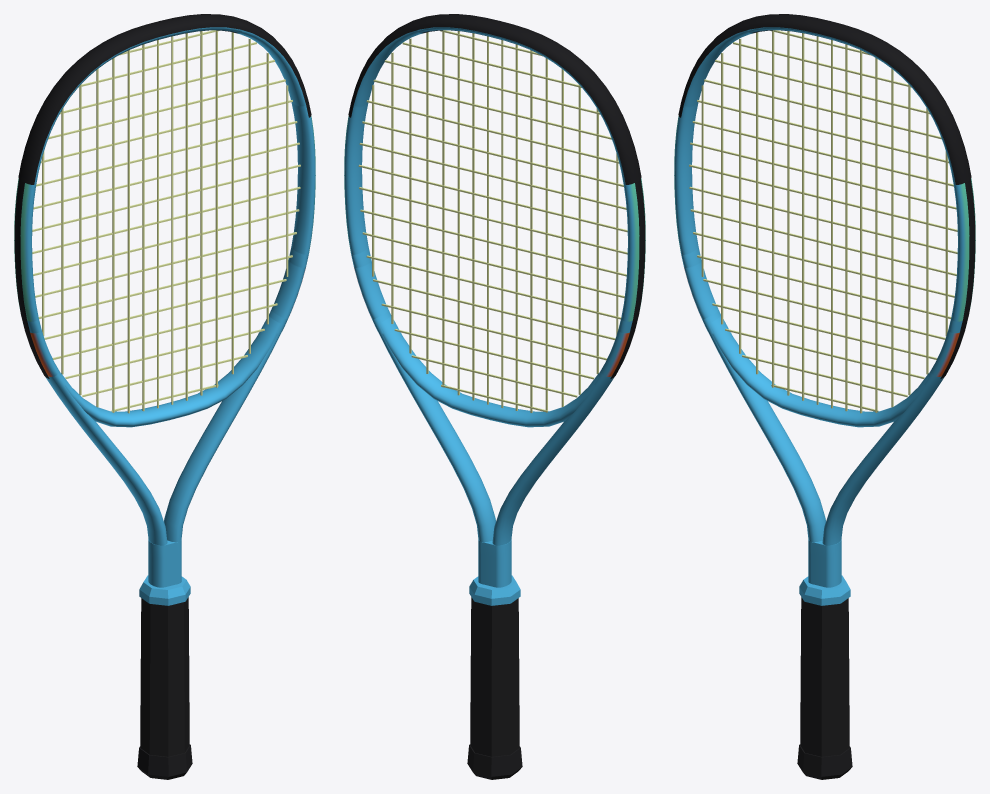
Rendered from yonex-junior-25.glb.
The picture shows the model from 3 angles, left to right: view 1: azimuth 30°, elevation 25°; view 2: azimuth 150°, elevation 25°; view 3: azimuth 330°, elevation 25°; orthographic projection.
Parts seen in each view (by area): view 1: frame, strings_mains, strings_crosses, grip, bumper, butt_cap, grommets, collar; view 2: frame, strings_mains, strings_crosses, grip, bumper, butt_cap, grommets, collar; view 3: frame, strings_mains, strings_crosses, grip, bumper, butt_cap, grommets, collar.
Boxes of the visible parts, x1,y1,x2,y2 form: frame: (14,27,315,587); strings_mains: (42,30,288,413); strings_crosses: (32,30,300,412); grip: (140,597,189,756); bumper: (18,14,311,184); butt_cap: (137,744,192,779); grommets: (14,179,49,378); collar: (139,575,190,605); frame: (344,27,645,587); strings_mains: (372,31,618,412); strings_crosses: (358,30,627,412); grip: (470,597,519,756); bumper: (348,14,641,184); butt_cap: (467,744,522,779); grommets: (610,179,645,378); collar: (469,575,520,605); frame: (674,27,975,587); strings_mains: (701,30,947,413); strings_crosses: (689,30,957,412); grip: (800,597,849,756); bumper: (678,14,971,184); butt_cap: (797,744,852,779); grommets: (940,179,975,378); collar: (799,575,850,605).
Bounding box in the file's own units: 0.2636 × 0.6353 × 0.0396.
